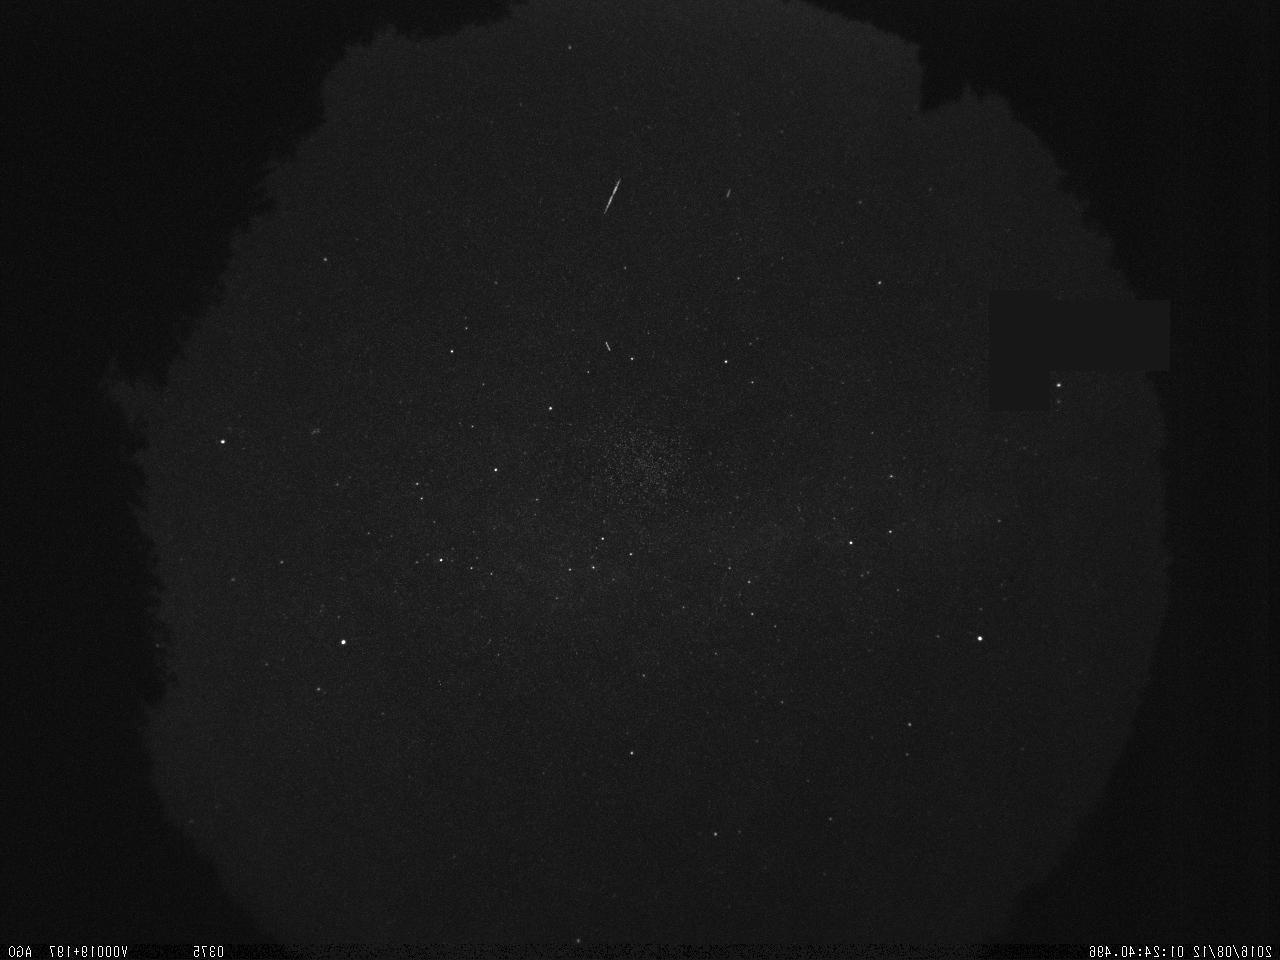meteor: (594, 163, 635, 221)
